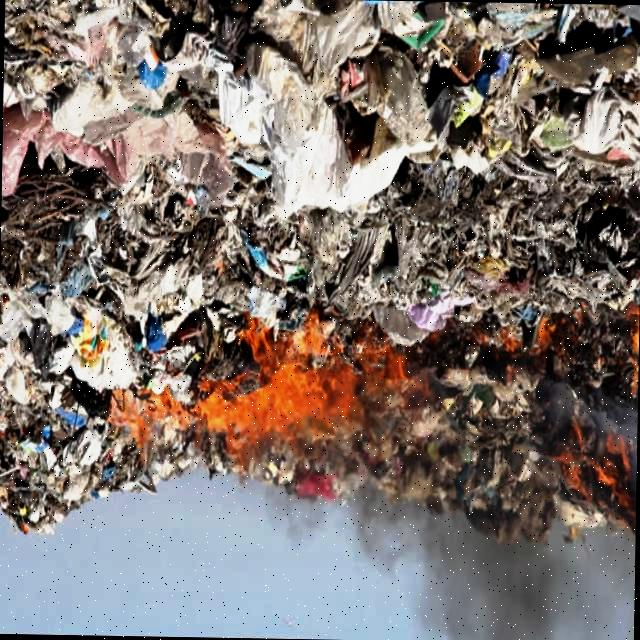api: (121, 328, 400, 441), (562, 434, 628, 504), (502, 321, 568, 355), (623, 298, 640, 362)
asap: (332, 490, 625, 640), (515, 378, 640, 448), (264, 480, 321, 557)
